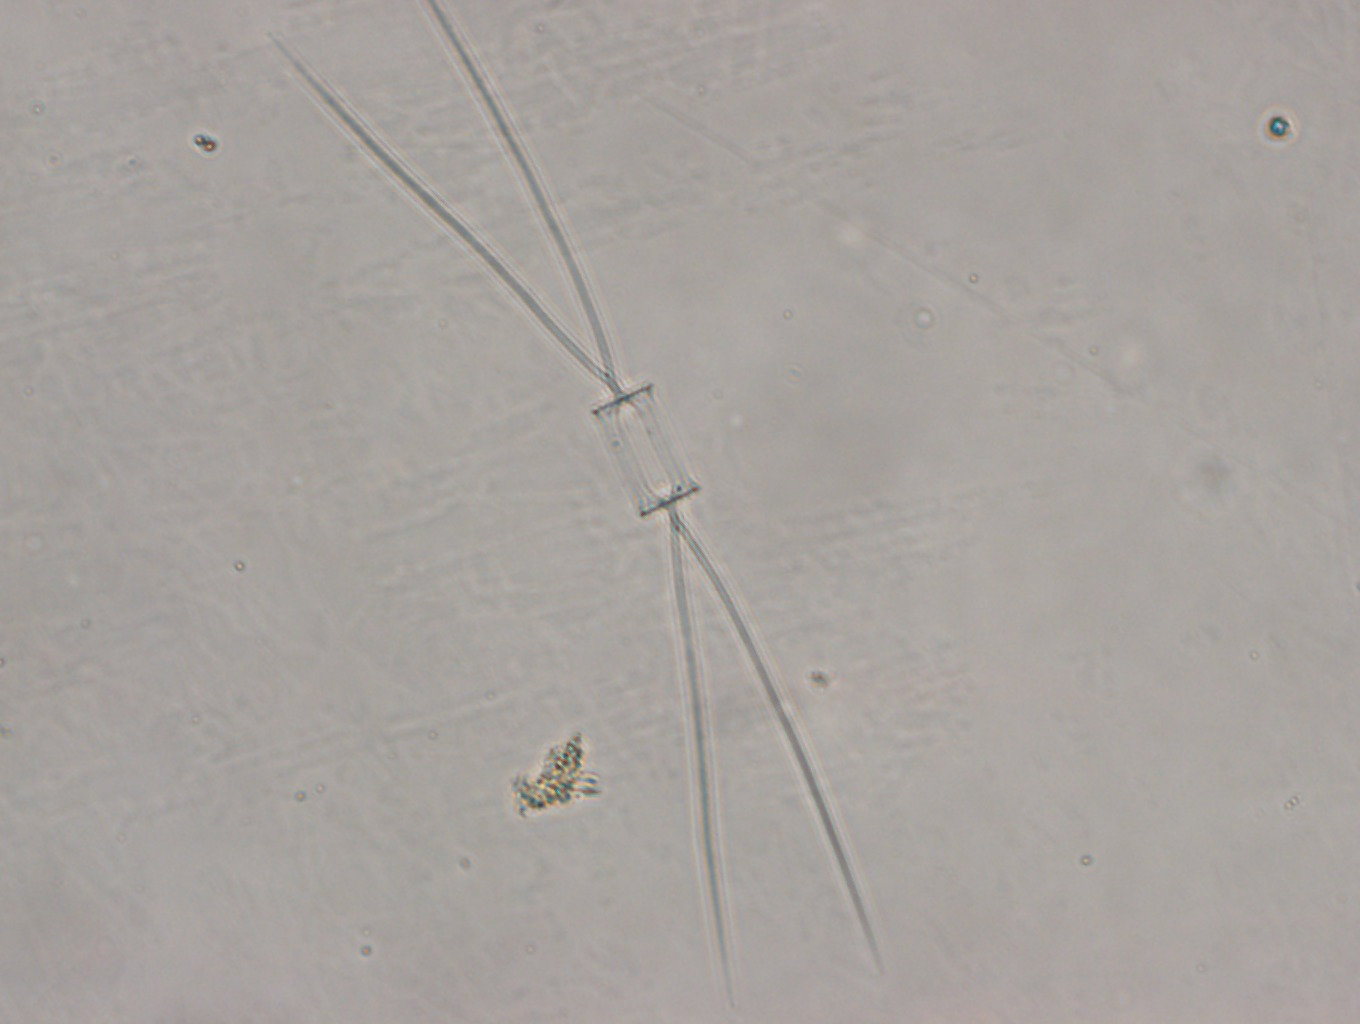chaetoceros: (269, 1, 886, 1002)
